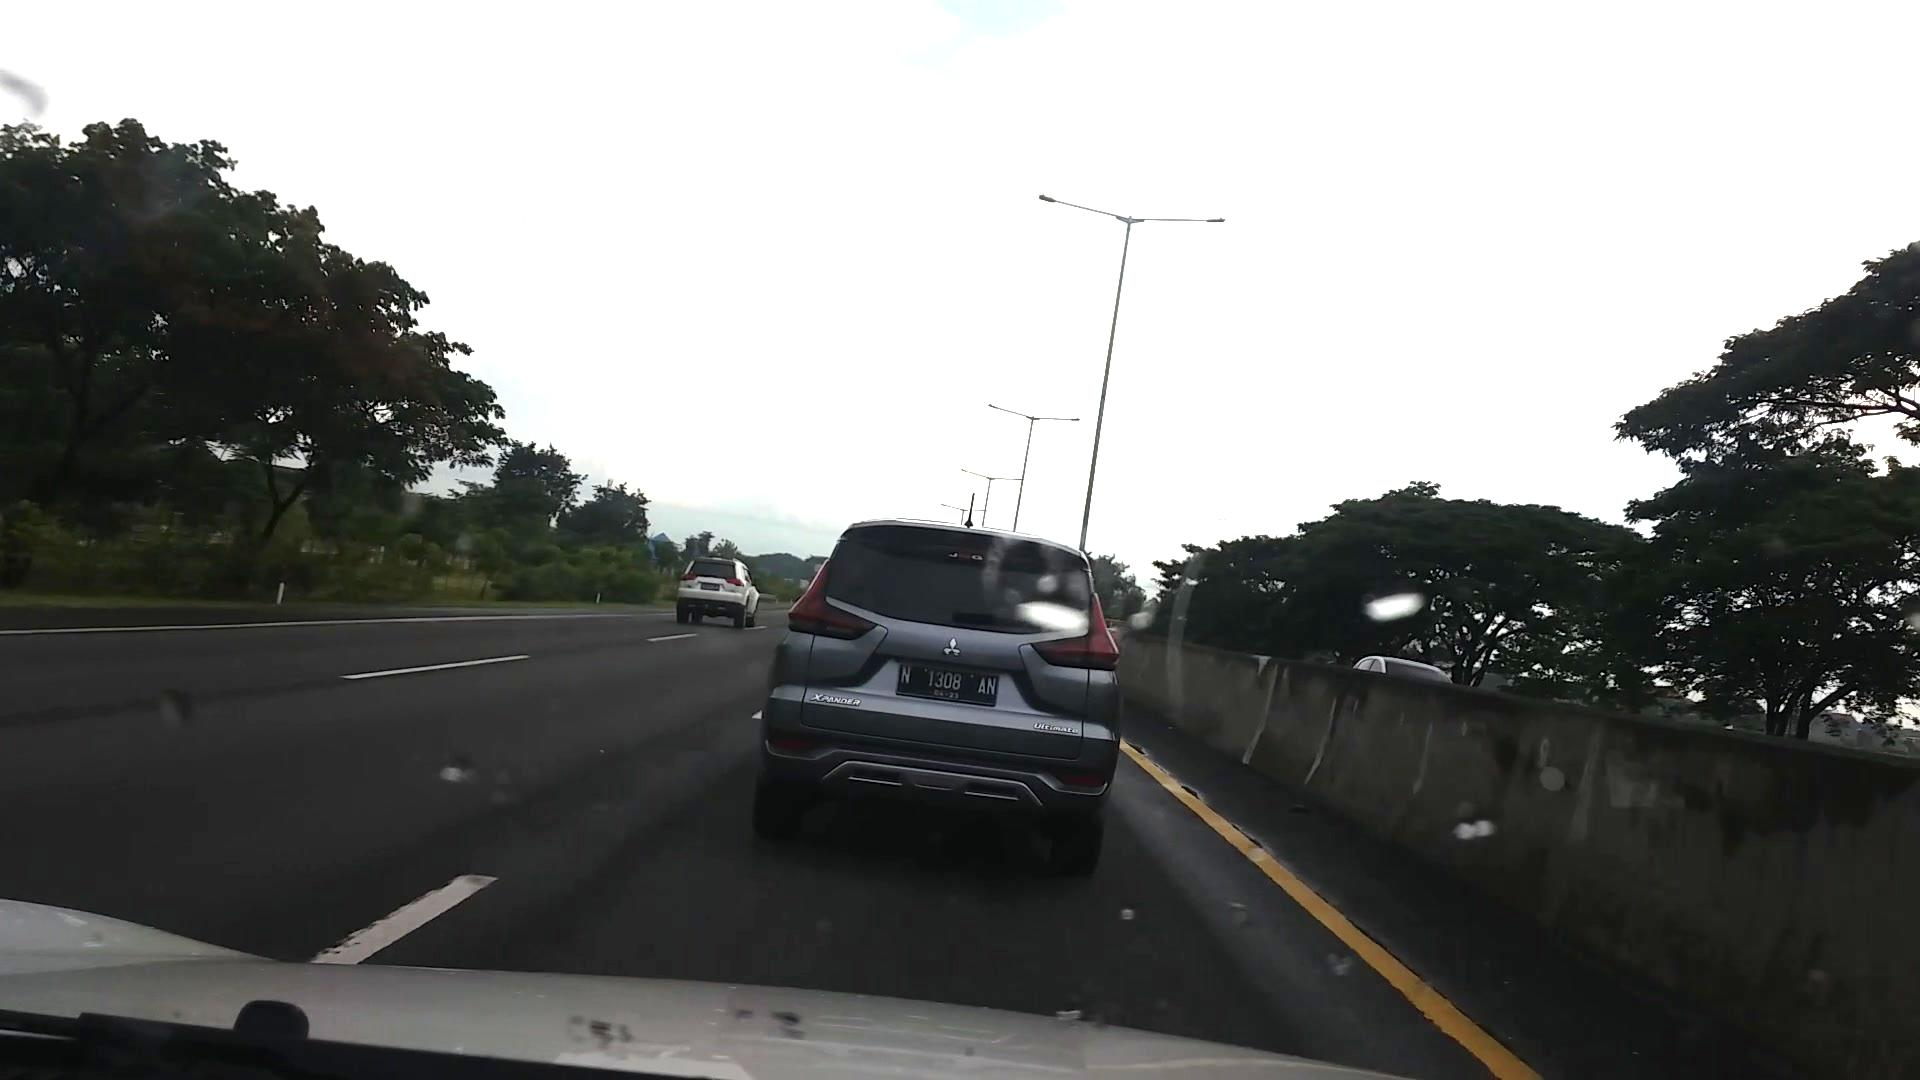plate_positive: (897, 661, 997, 707)
